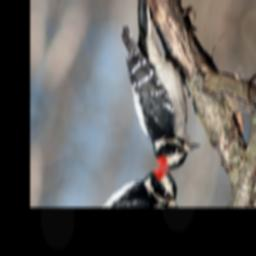Woodpecker: (94, 0, 234, 181)
